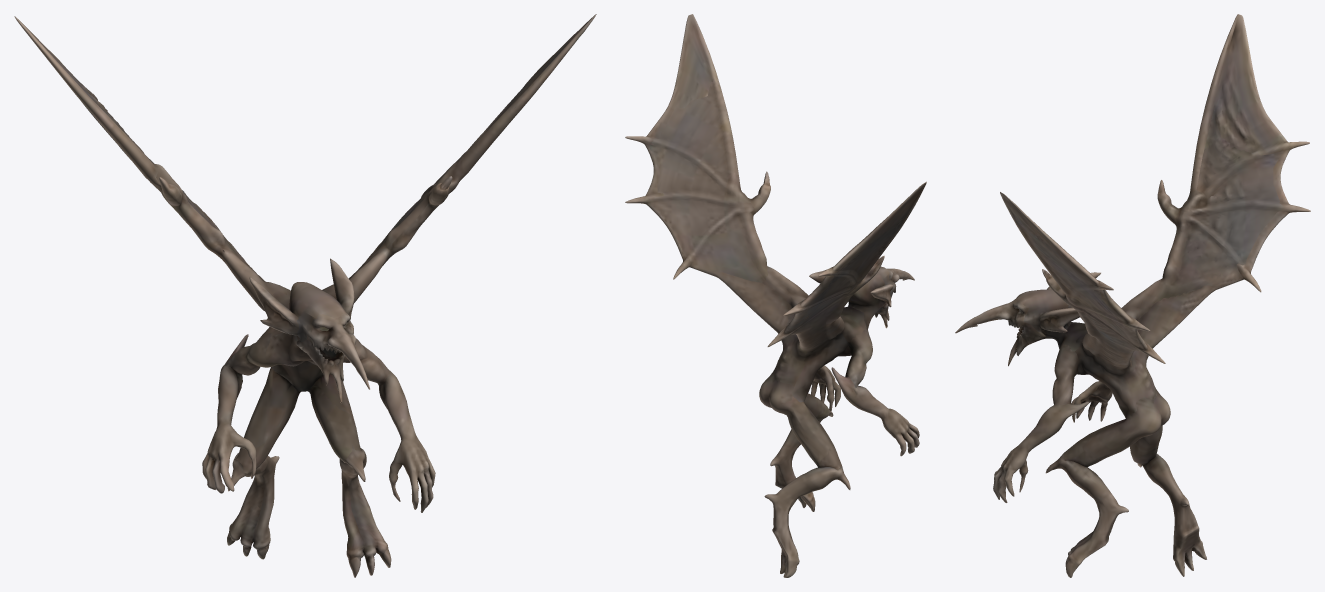
Rendered from MZ4250 - Mud Mephit_3 2025.glb.
3 views of the same model, side by side, from view 1: azimuth 30°, elevation 25°; view 2: azimuth 150°, elevation 25°; view 3: azimuth 270°, elevation 25° (orthographic). The views are drawn at different scales.
Parts seen in each view (by area): view 1: Cylinder.001; view 2: Cylinder.001; view 3: Cylinder.001.
Boxes of the visible parts, x1,y1,x2,y2 form: Cylinder.001: (14,14,596,577); Cylinder.001: (625,14,926,577); Cylinder.001: (955,14,1310,577).
Size of the model in its own units: 101 by 121 by 81.88.
1 material, 1 textured.
